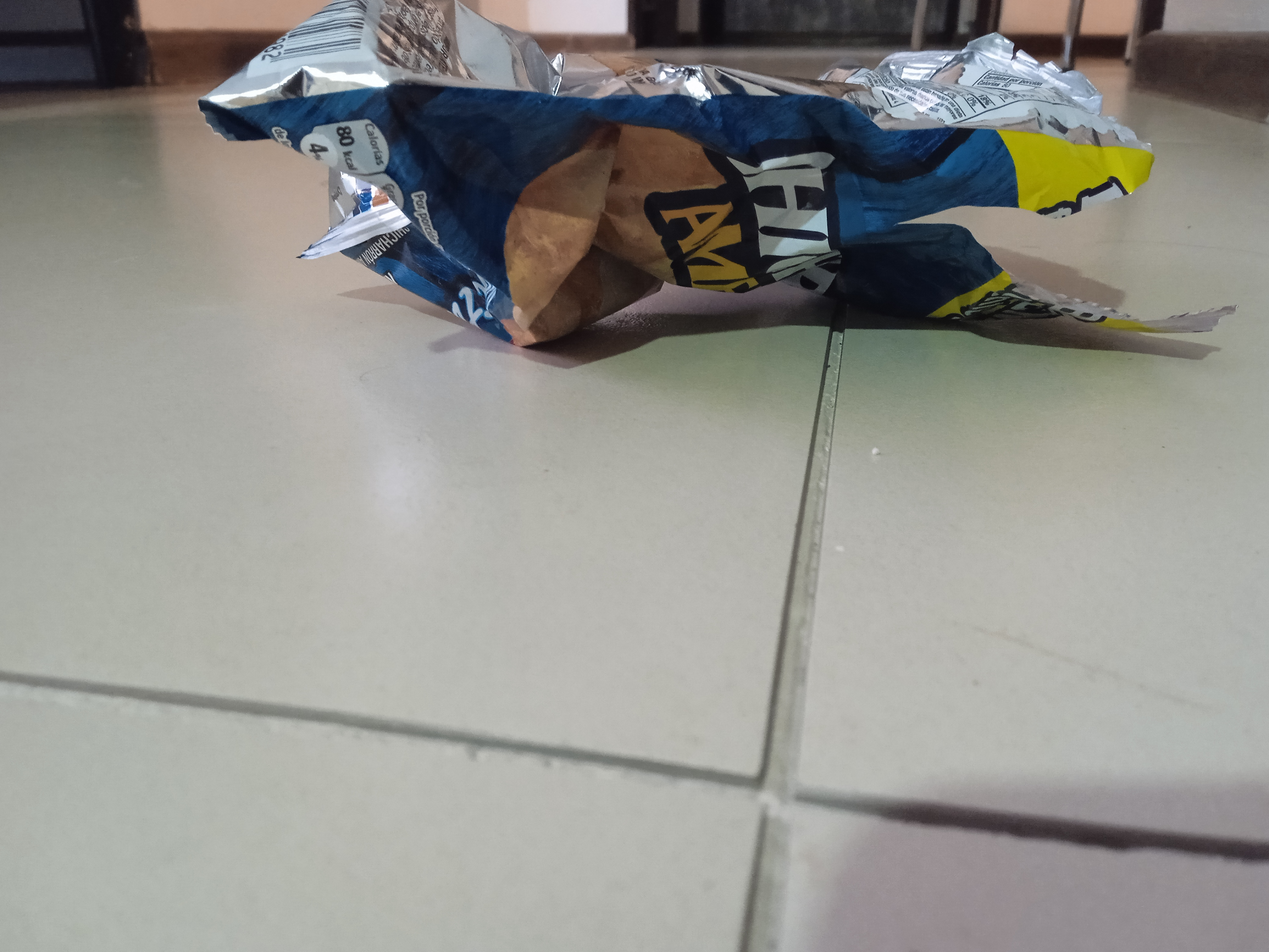plastic: (193, 0, 1175, 396)
